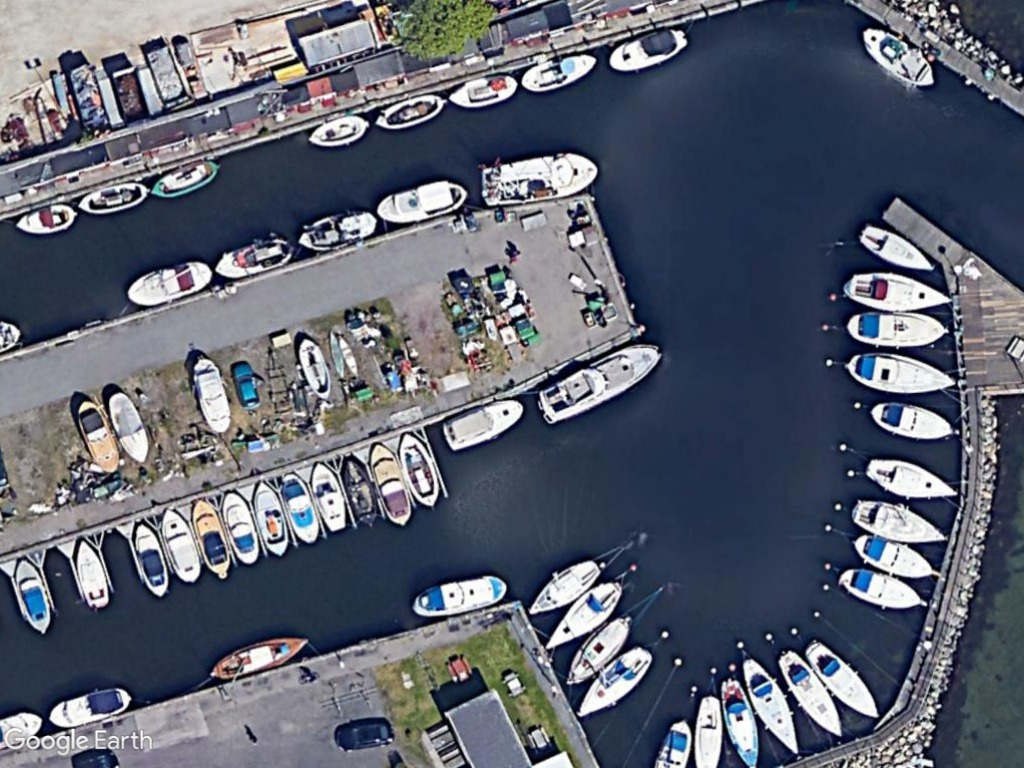boat: (533, 334, 667, 424), (772, 644, 851, 742), (475, 153, 602, 212), (804, 636, 886, 725), (539, 573, 626, 656), (739, 651, 804, 758), (572, 640, 660, 719), (843, 344, 962, 398), (850, 492, 952, 551), (858, 23, 942, 93), (840, 267, 957, 317), (205, 631, 311, 684), (438, 391, 527, 454), (560, 612, 631, 690), (861, 451, 961, 506), (523, 553, 605, 619), (842, 302, 952, 351), (853, 220, 943, 277), (407, 571, 509, 621), (374, 176, 470, 228), (123, 256, 215, 310), (850, 525, 935, 583), (714, 672, 763, 768), (212, 231, 298, 284), (837, 563, 925, 613), (45, 683, 136, 731), (393, 426, 445, 510), (605, 27, 692, 77), (367, 437, 414, 529), (76, 395, 125, 477), (869, 395, 955, 441), (189, 493, 233, 582), (297, 207, 382, 253), (519, 47, 600, 95), (193, 350, 236, 440), (106, 389, 155, 467), (73, 175, 155, 220), (339, 449, 382, 534), (305, 456, 350, 535), (371, 85, 449, 130), (161, 506, 204, 587), (147, 155, 222, 201), (221, 489, 264, 569), (280, 468, 324, 546), (447, 68, 522, 113), (301, 108, 372, 155), (254, 477, 292, 563), (133, 518, 172, 601), (16, 554, 54, 639), (73, 535, 114, 612), (295, 333, 337, 405), (8, 199, 82, 239)
car: (334, 718, 399, 753), (228, 357, 265, 412)
